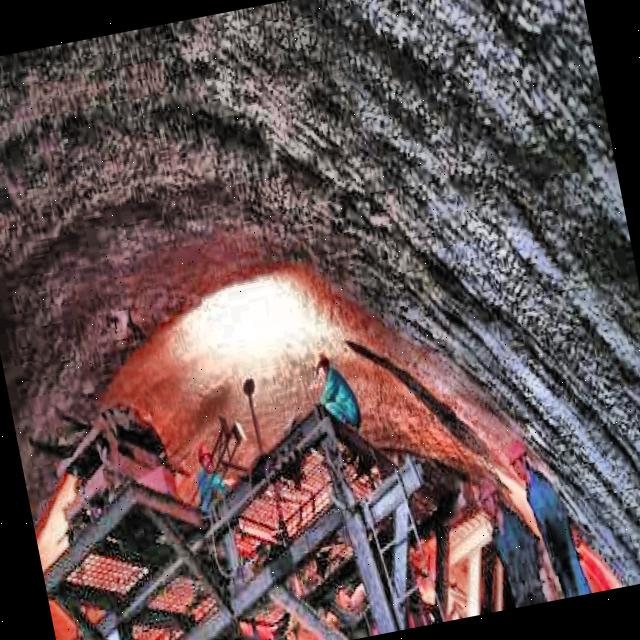helmet: (500, 432, 532, 483), (474, 473, 504, 521), (192, 435, 216, 480), (310, 349, 334, 388)
